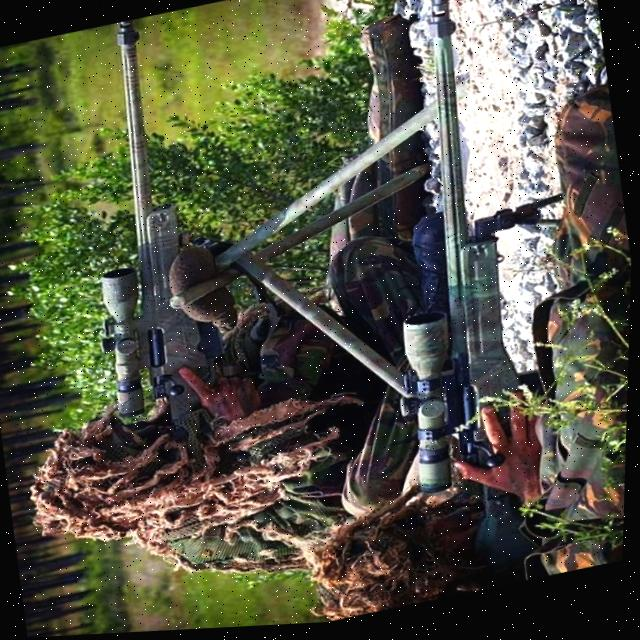firearm: (336, 0, 561, 586), (50, 9, 241, 430)
